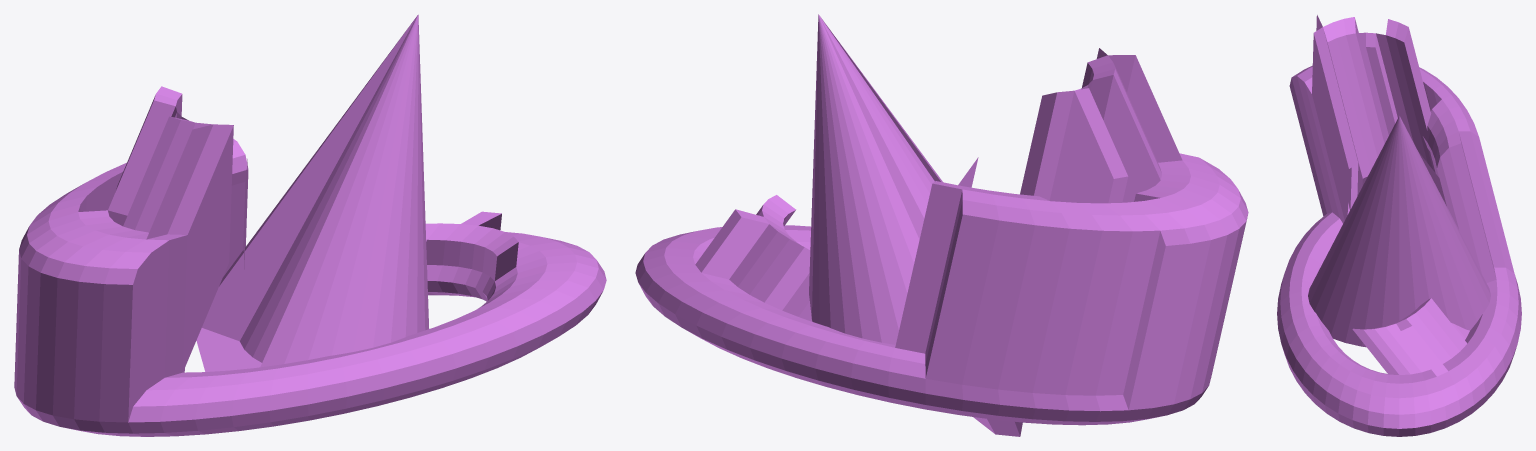
The model's file is structure1.glb.
The picture shows the model from 3 angles, left to right: view 1: azimuth 30°, elevation 25°; view 2: azimuth 150°, elevation 25°; view 3: azimuth 270°, elevation 25°; orthographic projection. The views are drawn at different scales.
Visible parts, largest first — view 1: Torus; view 2: Torus; view 3: Torus.
Boxes of the visible parts, box(x1,y1,x2,y2) form: Torus: box(14, 14, 606, 436); Torus: box(635, 14, 1248, 436); Torus: box(1277, 15, 1521, 436).
Size of the model in its own units: 5.73 by 3.36 by 2.5.
